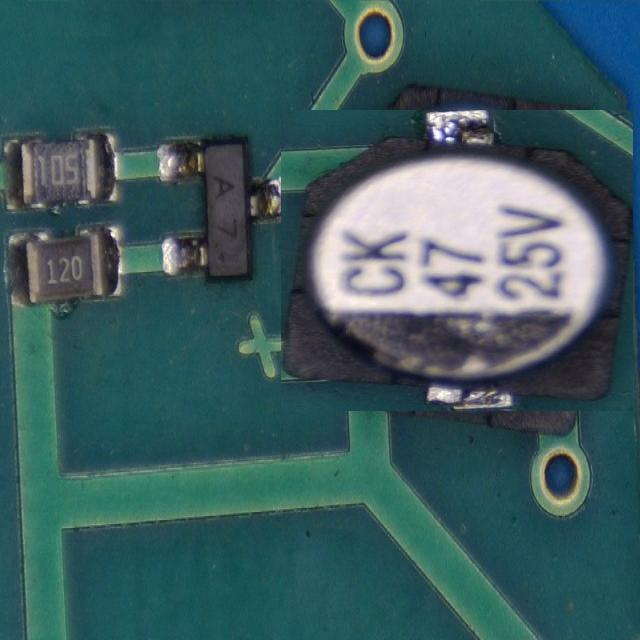Incorrect_installation: (282, 111, 632, 410)
